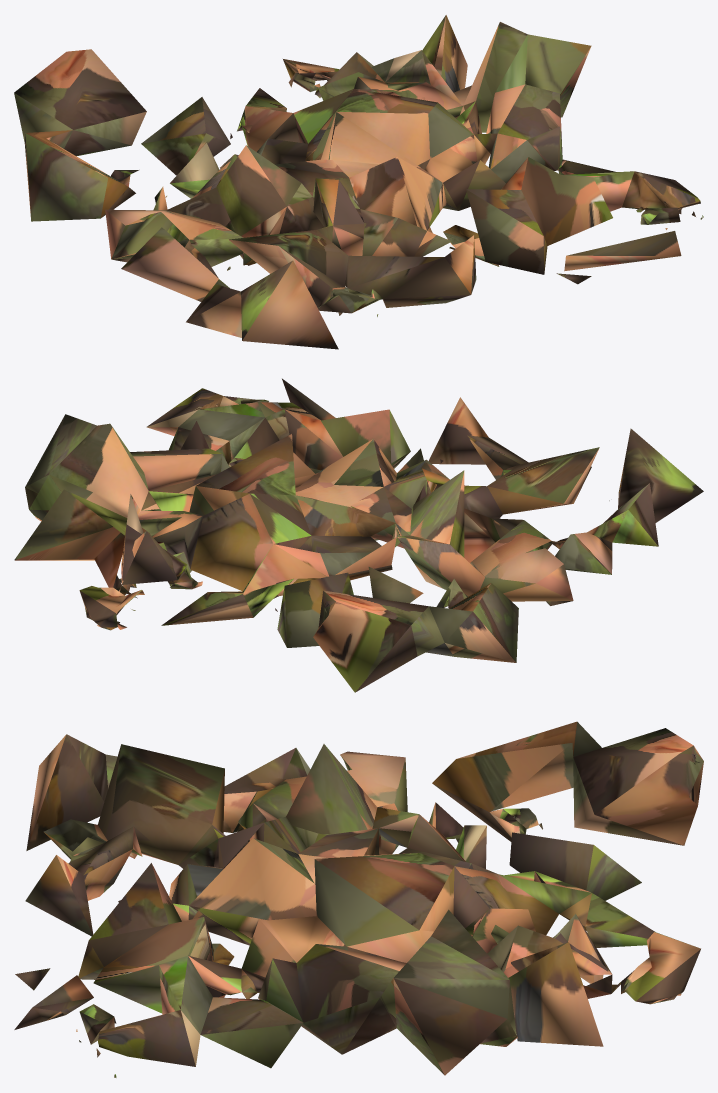
File: PebbleCollider.fbx
3 views of the same model, one above another, from view 1: azimuth 30°, elevation 25°; view 2: azimuth 150°, elevation 25°; view 3: azimuth 270°, elevation 25° (orthographic). The views are drawn at different scales.
Visible parts, largest first — view 1: Mesh1; view 2: Mesh1; view 3: Mesh1.
Boxes of the visible parts, <box> form: Mesh1: <box>14,15,703,349</box>; Mesh1: <box>14,378,703,692</box>; Mesh1: <box>14,721,703,1077</box>.
Size of the model in its own units: 197 by 46.3 by 193.
